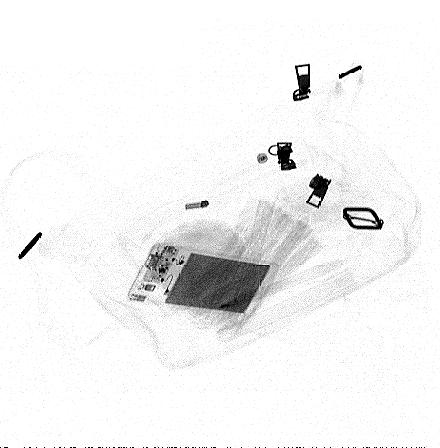Powerbank: (126, 241, 278, 321)
